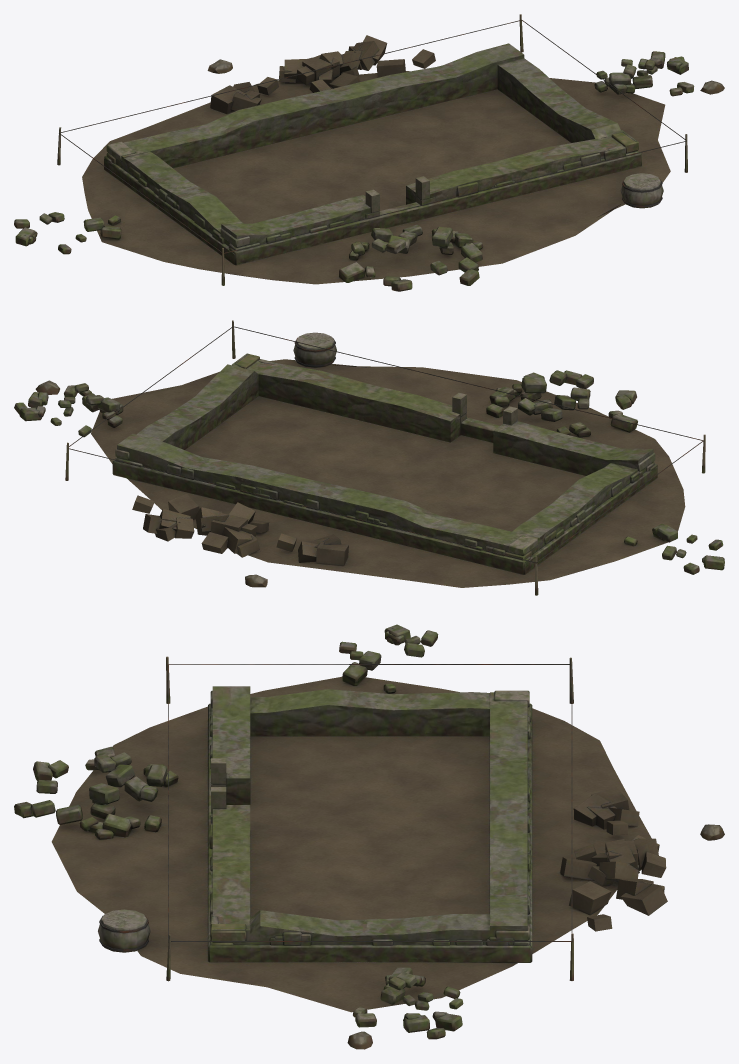
Rendered from house_c_build1.glb.
3 renders of one model, top to bottom at view 1: azimuth 30°, elevation 25°; view 2: azimuth 150°, elevation 25°; view 3: azimuth 270°, elevation 25°, orthographic. The views are drawn at different scales.
Visible parts, largest first — view 1: house_c_build1_LOD0; view 2: house_c_build1_LOD0; view 3: house_c_build1_LOD0.
Part boxes in pixels (x1,y1,x2,y2): house_c_build1_LOD0: [14, 14, 724, 291]; house_c_build1_LOD0: [14, 320, 724, 595]; house_c_build1_LOD0: [14, 624, 724, 1049].
Size of what is drawn, in the model's own units: 15.56 by 0.8006 by 11.28.
1 material, 1 textured.
